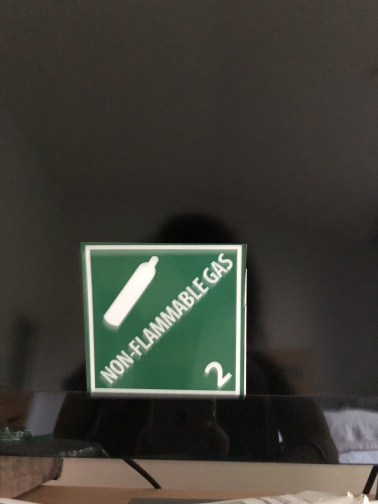NonFlammableGas: (79, 239, 251, 396)
